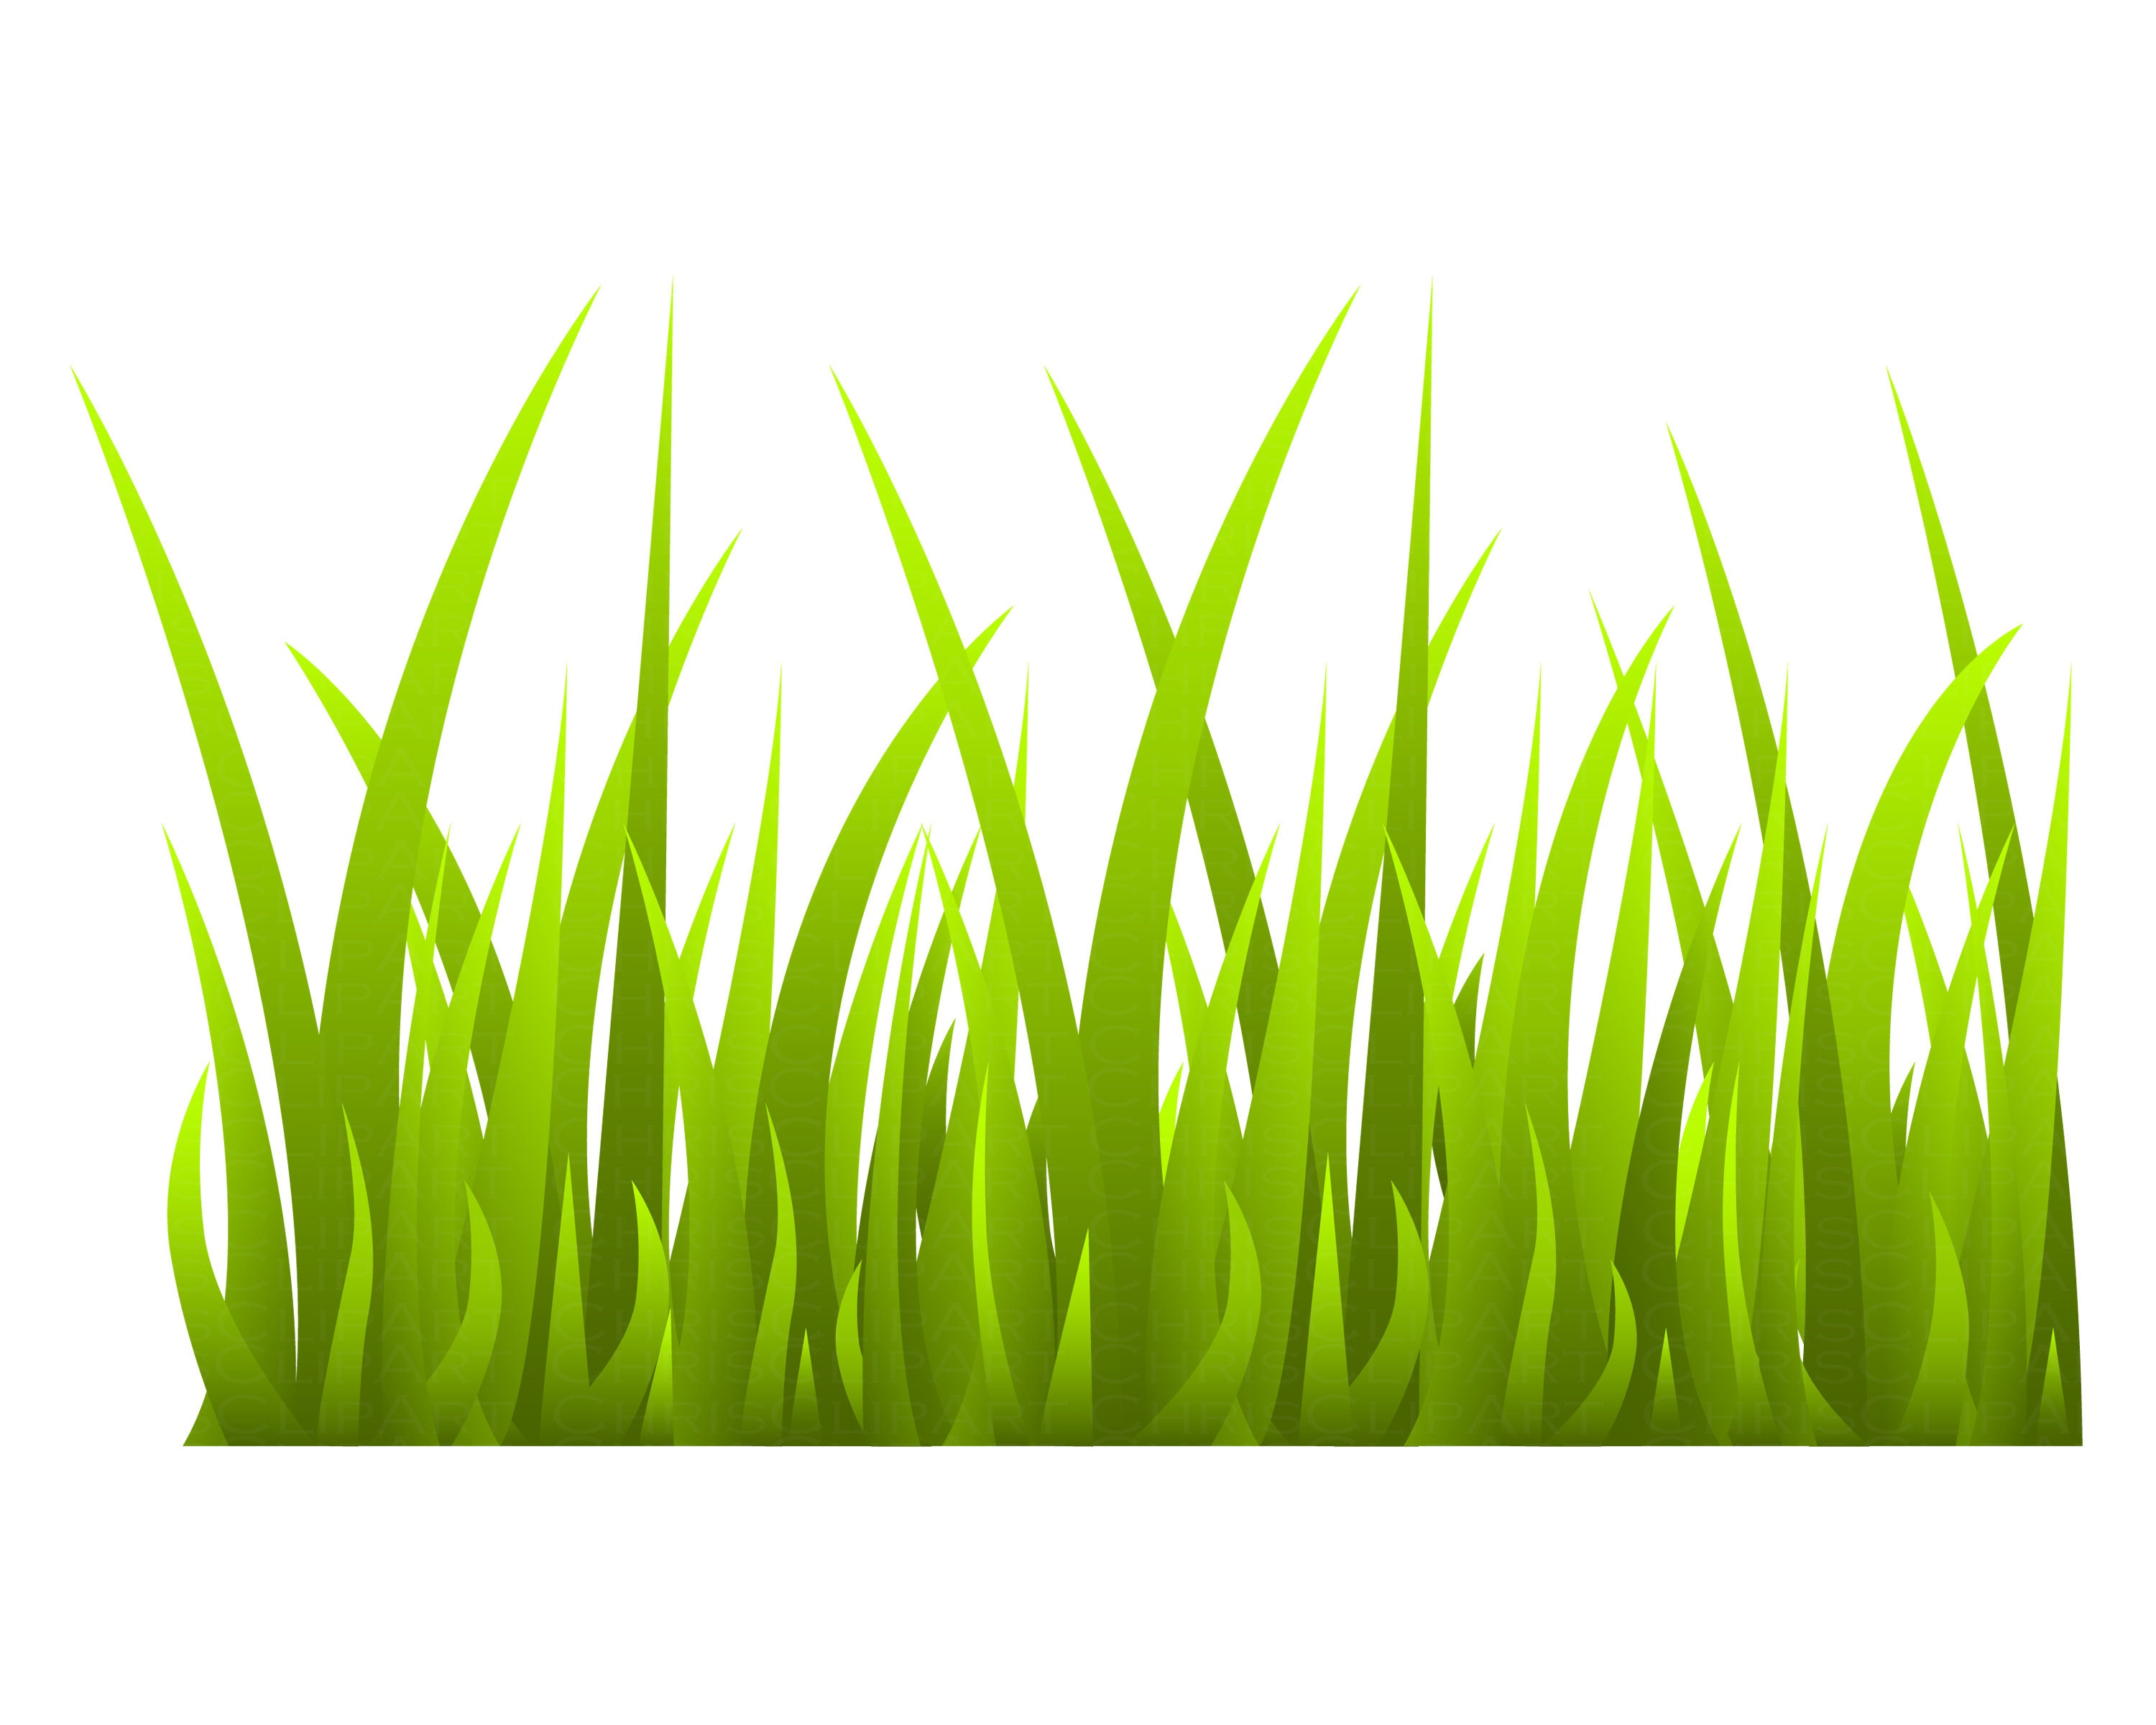grass: (275, 919, 2066, 1435)
